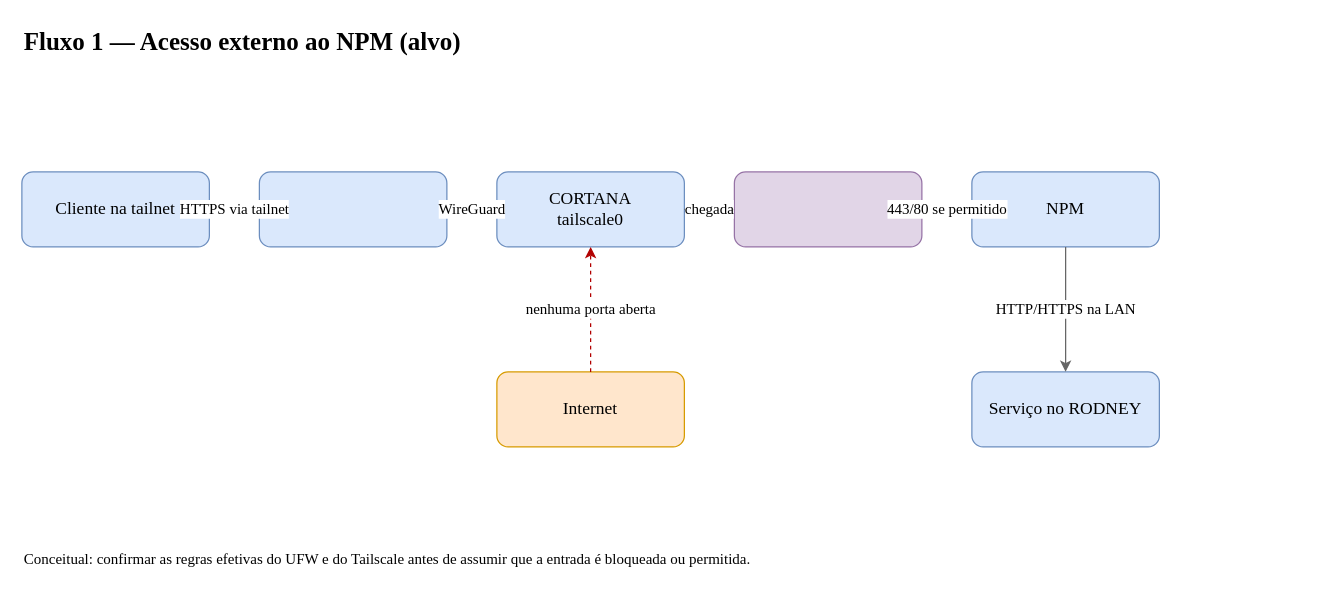
Some shapes in this 1319 by 605 pixel diagram are drawn without their labels. Here are the shapes that lost their labels. From the top down, the box of each, then its label:
(258, 171, 447, 247): Tailscale (overlay)
(733, 171, 922, 247): UFW INPUT
